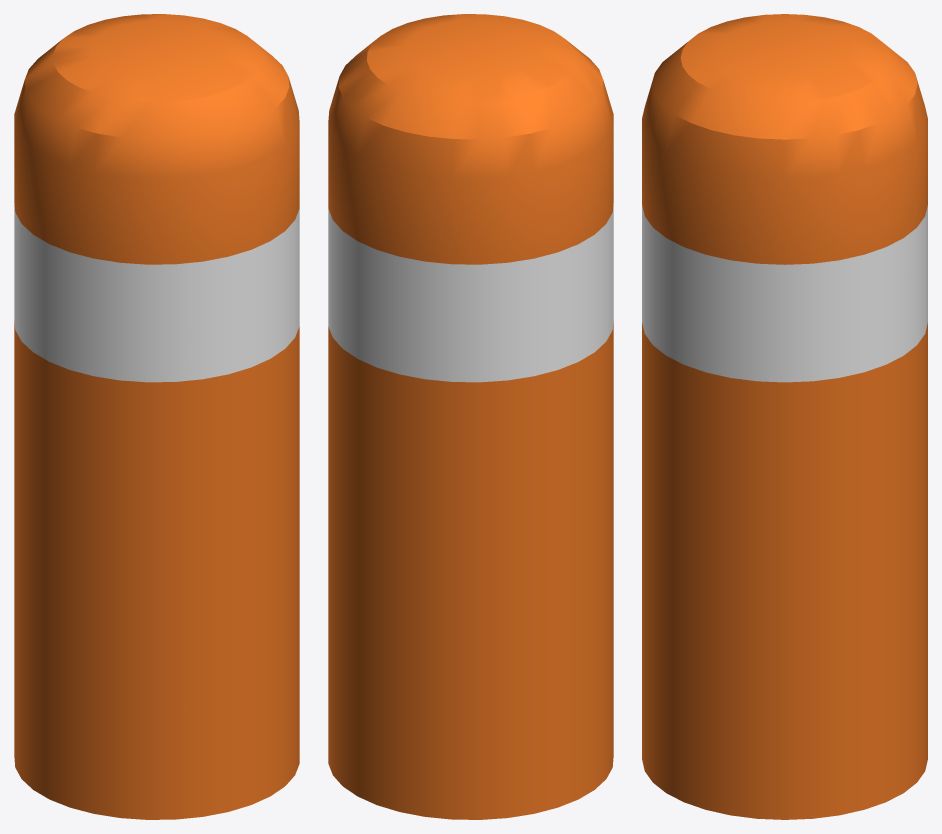
File: Duba.fbx
The picture shows the model from 3 angles, left to right: view 1: azimuth 30°, elevation 25°; view 2: azimuth 150°, elevation 25°; view 3: azimuth 270°, elevation 25°; orthographic projection.
Visible parts, largest first — view 1: Duba; view 2: Duba; view 3: Duba.
Boxes of the visible parts, x1,y1,x2,y2 form: Duba: (14,14,299,819); Duba: (328,14,613,819); Duba: (642,14,927,819).
Bounding box in the file's own units: 36.2 × 99.31 × 36.2.
